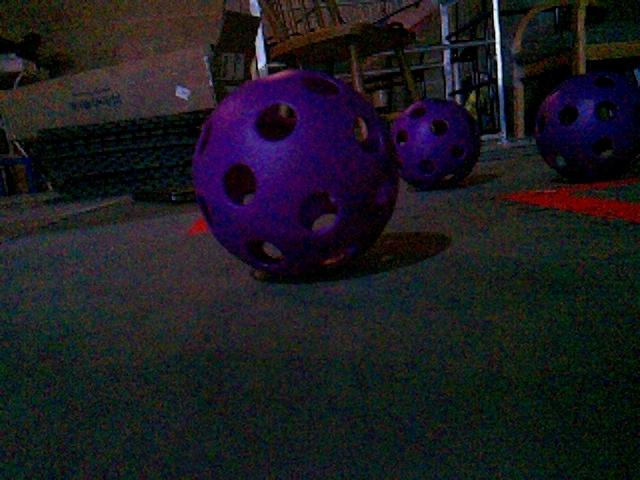Purple: (189, 69, 400, 277), (529, 71, 640, 182), (388, 97, 483, 191)
